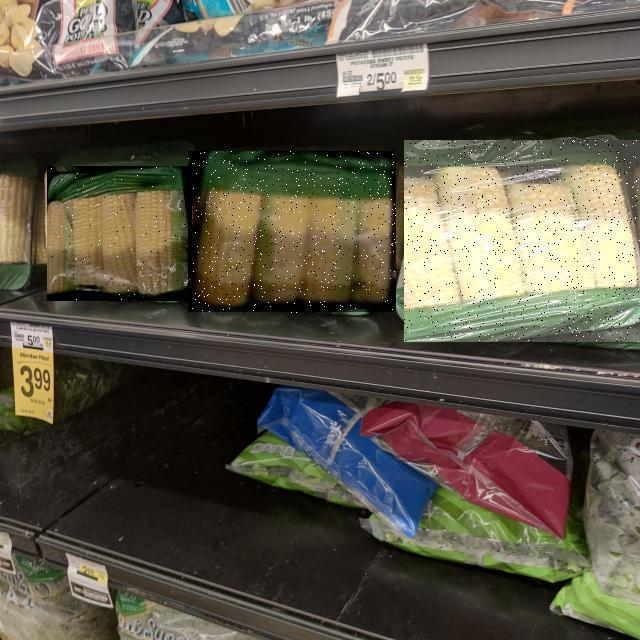Corn: (404, 140, 640, 342), (188, 152, 396, 314), (47, 166, 193, 301)
